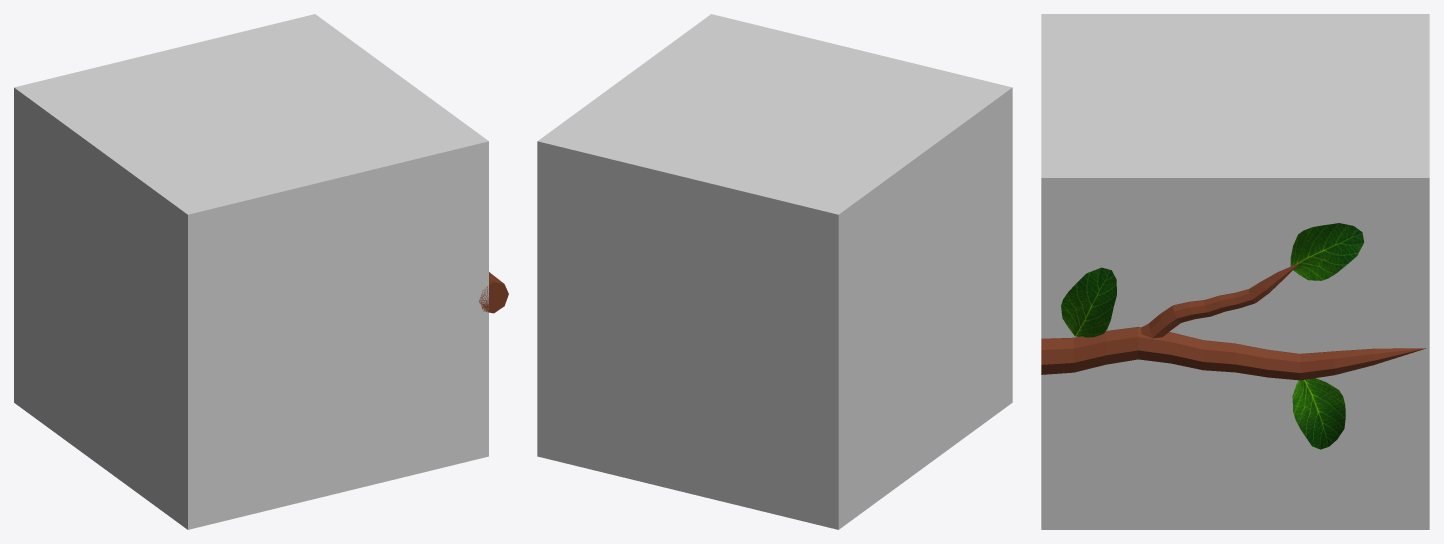
File: branch_h.fbx
3 views of the same model, side by side, from view 1: azimuth 30°, elevation 25°; view 2: azimuth 150°, elevation 25°; view 3: azimuth 270°, elevation 25° (orthographic). The views are drawn at different scales.
Parts seen in each view (by area): view 1: Cube, Cylinder; view 2: Cube; view 3: Cube, Cylinder, Plane, Plane.001, Plane.002.
Boxes of the visible parts, x1,y1,x2,y2 form: Cube: (14, 14, 488, 529); Cylinder: (479, 272, 508, 313); Cube: (537, 14, 1012, 529); Cube: (1041, 14, 1429, 529); Cylinder: (1041, 262, 1426, 380); Plane: (1290, 223, 1364, 280); Plane.001: (1292, 378, 1345, 449); Plane.002: (1061, 267, 1116, 337).
Size of the model in its own units: 214 by 200 by 200.
